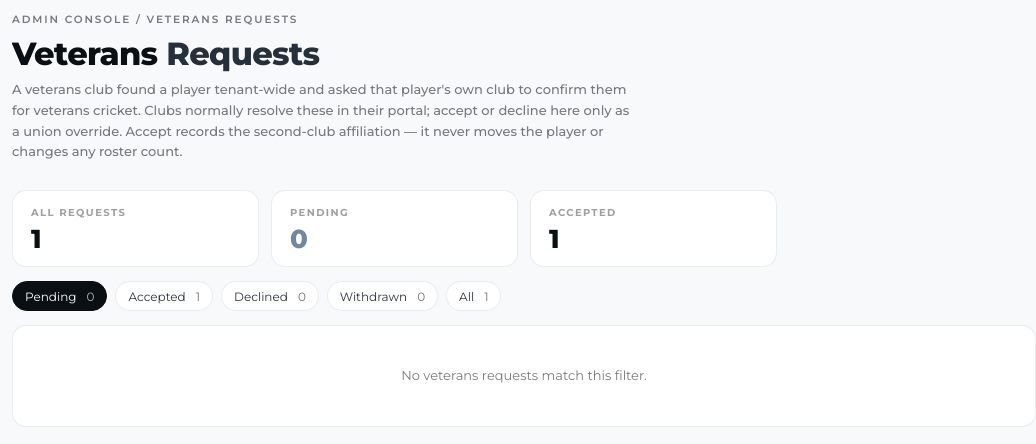
resolved rows › labels a union override and shows no action buttons
The width and height of the screenshot is (1036, 444).
Note: Switch to the Accepted filter to reveal it.
Click the button "Accepted 1".
click(164, 296)  # box x1=116 y1=281 x2=213 y2=311
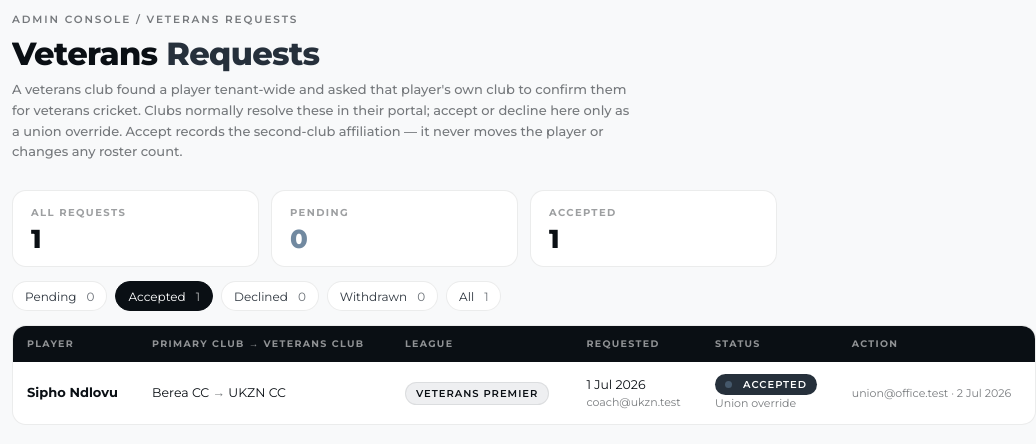
Result: the text "Accepted" is shown at x1=715 y1=374 x2=817 y2=395
Result: the text "Union override" is shown at x1=715 y1=396 x2=796 y2=410
Result: the text "union@office.test" is shown at x1=852 y1=386 x2=948 y2=400
